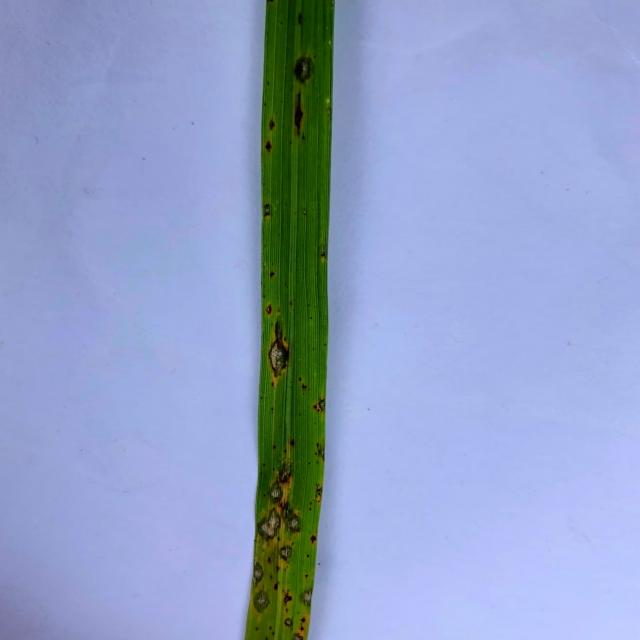leaf blast: (264, 317, 294, 385), (255, 508, 283, 542), (279, 507, 306, 536), (248, 588, 273, 616), (266, 478, 287, 507), (296, 582, 316, 610), (250, 556, 268, 586), (275, 542, 296, 565), (275, 459, 294, 484), (308, 396, 327, 415), (260, 300, 278, 319), (281, 614, 297, 630), (288, 628, 304, 640)
